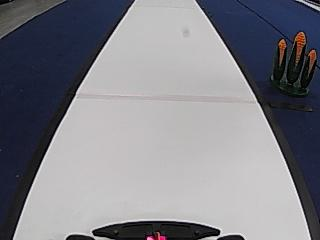corn: (262, 30, 319, 94)
